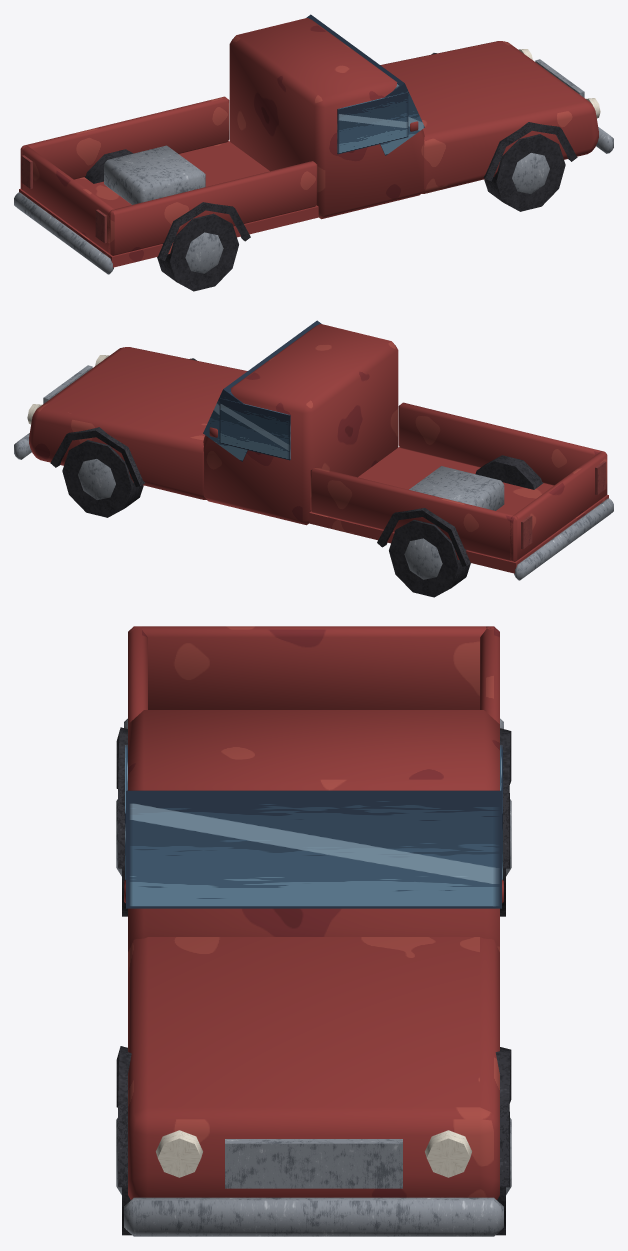
File: pickup_truck.glb
The picture shows the model from 3 angles, top to bottom: view 1: azimuth 30°, elevation 25°; view 2: azimuth 150°, elevation 25°; view 3: azimuth 270°, elevation 25°; orthographic projection. The views are drawn at different scales.
Parts seen in each view (by area): view 1: Truck; view 2: Truck; view 3: Truck.
Boxes of the visible parts, x1,y1,x2,y2 form: Truck: [14, 14, 613, 291]; Truck: [14, 320, 613, 597]; Truck: [116, 626, 511, 1236].
Size of the model in its own units: 5.95 by 1.76 by 2.
4 materials, 4 textured.
